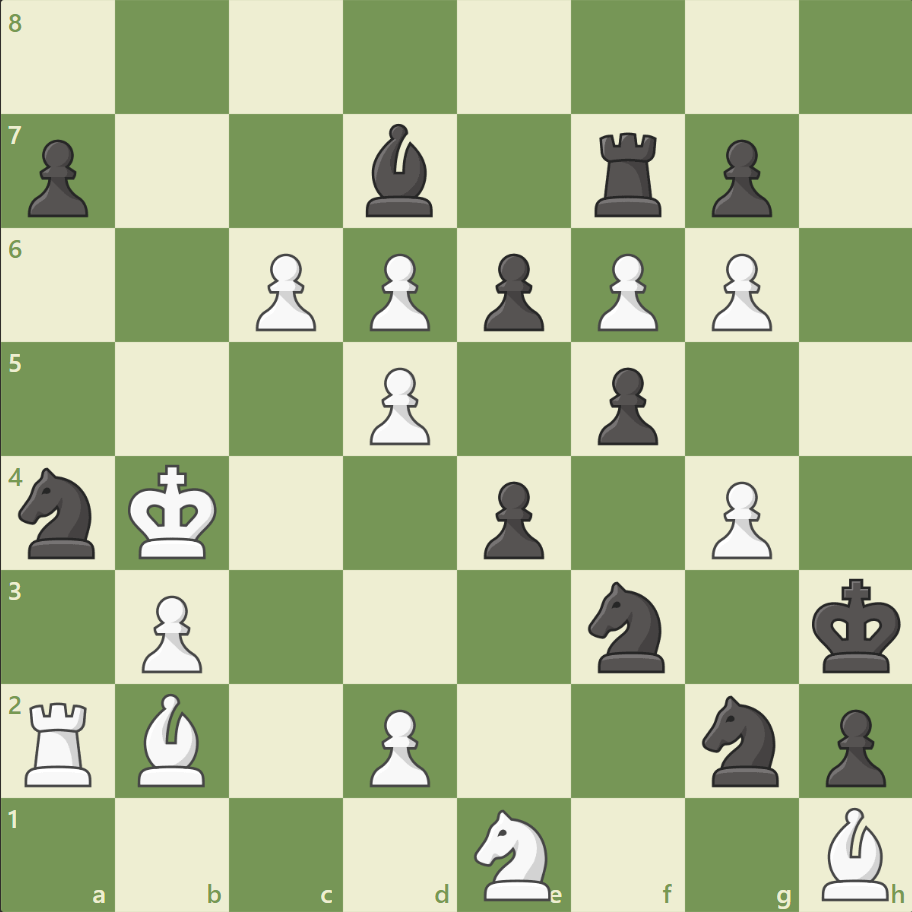B: (131, 687, 215, 790), (812, 801, 896, 904)
K: (124, 458, 224, 566)
N: (465, 802, 562, 904)
P: (247, 246, 322, 337), (701, 246, 776, 337), (701, 473, 776, 564), (133, 586, 208, 677), (361, 246, 435, 337), (588, 246, 662, 337), (361, 359, 435, 450), (361, 700, 435, 791)
R: (19, 693, 102, 790)
b: (358, 120, 442, 222)
k: (806, 571, 906, 679)
n: (11, 461, 108, 564), (692, 688, 789, 791), (579, 575, 676, 677)
p: (20, 132, 95, 223), (701, 132, 776, 223), (474, 246, 549, 337), (474, 473, 549, 564), (588, 359, 662, 450), (815, 700, 889, 791)
r: (587, 125, 670, 222)
